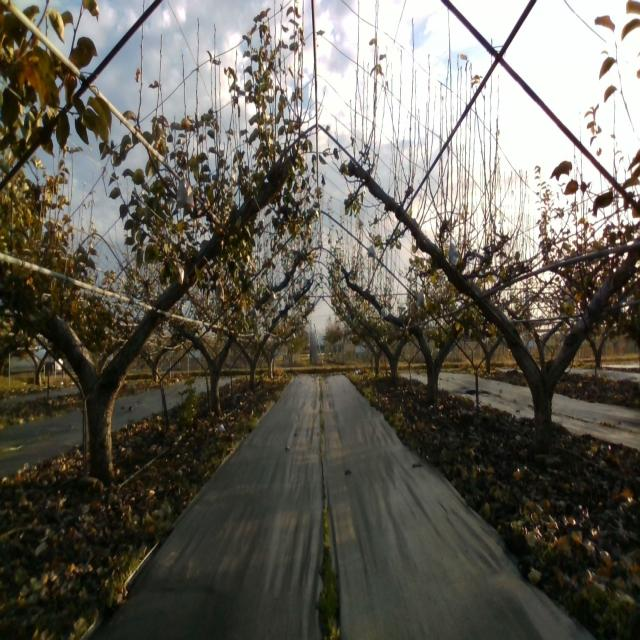pearbags: (175, 172, 195, 210), (448, 239, 459, 269)
